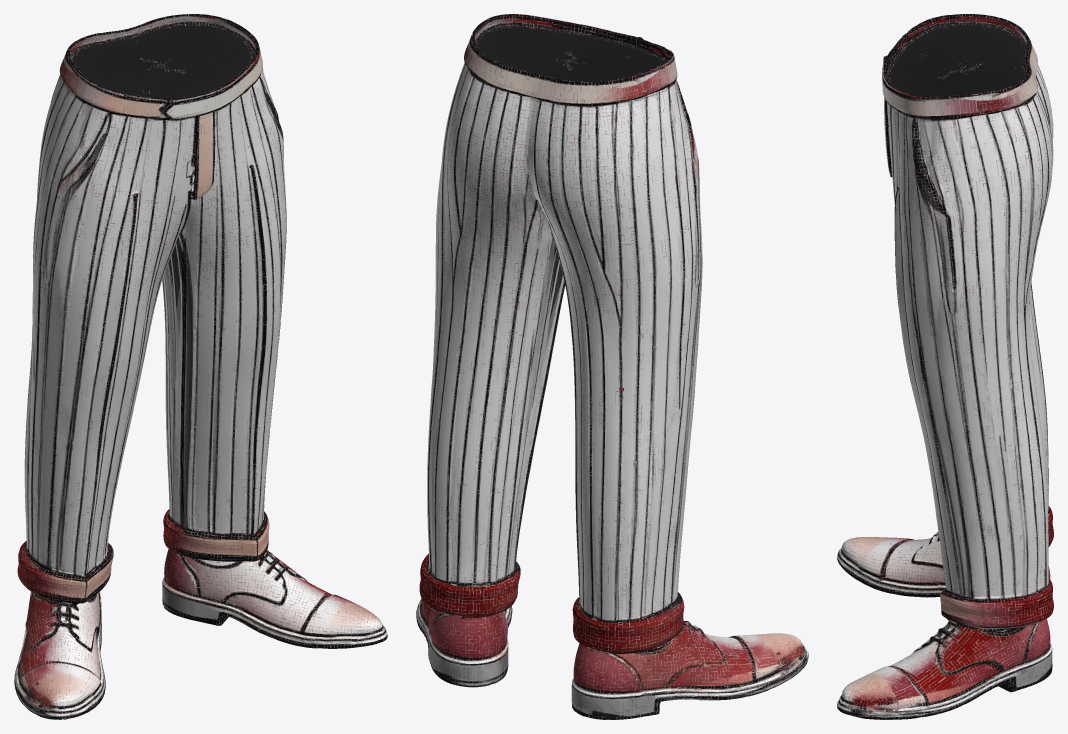
The model's file is giant.glb.
The picture shows the model from 3 angles, left to right: view 1: azimuth 30°, elevation 25°; view 2: azimuth 150°, elevation 25°; view 3: azimuth 270°, elevation 25°; orthographic projection. The views are drawn at different scales.
Bounding box in the file's own units: 1.16 × 1.9 × 0.6367.
1 material, 1 textured.
